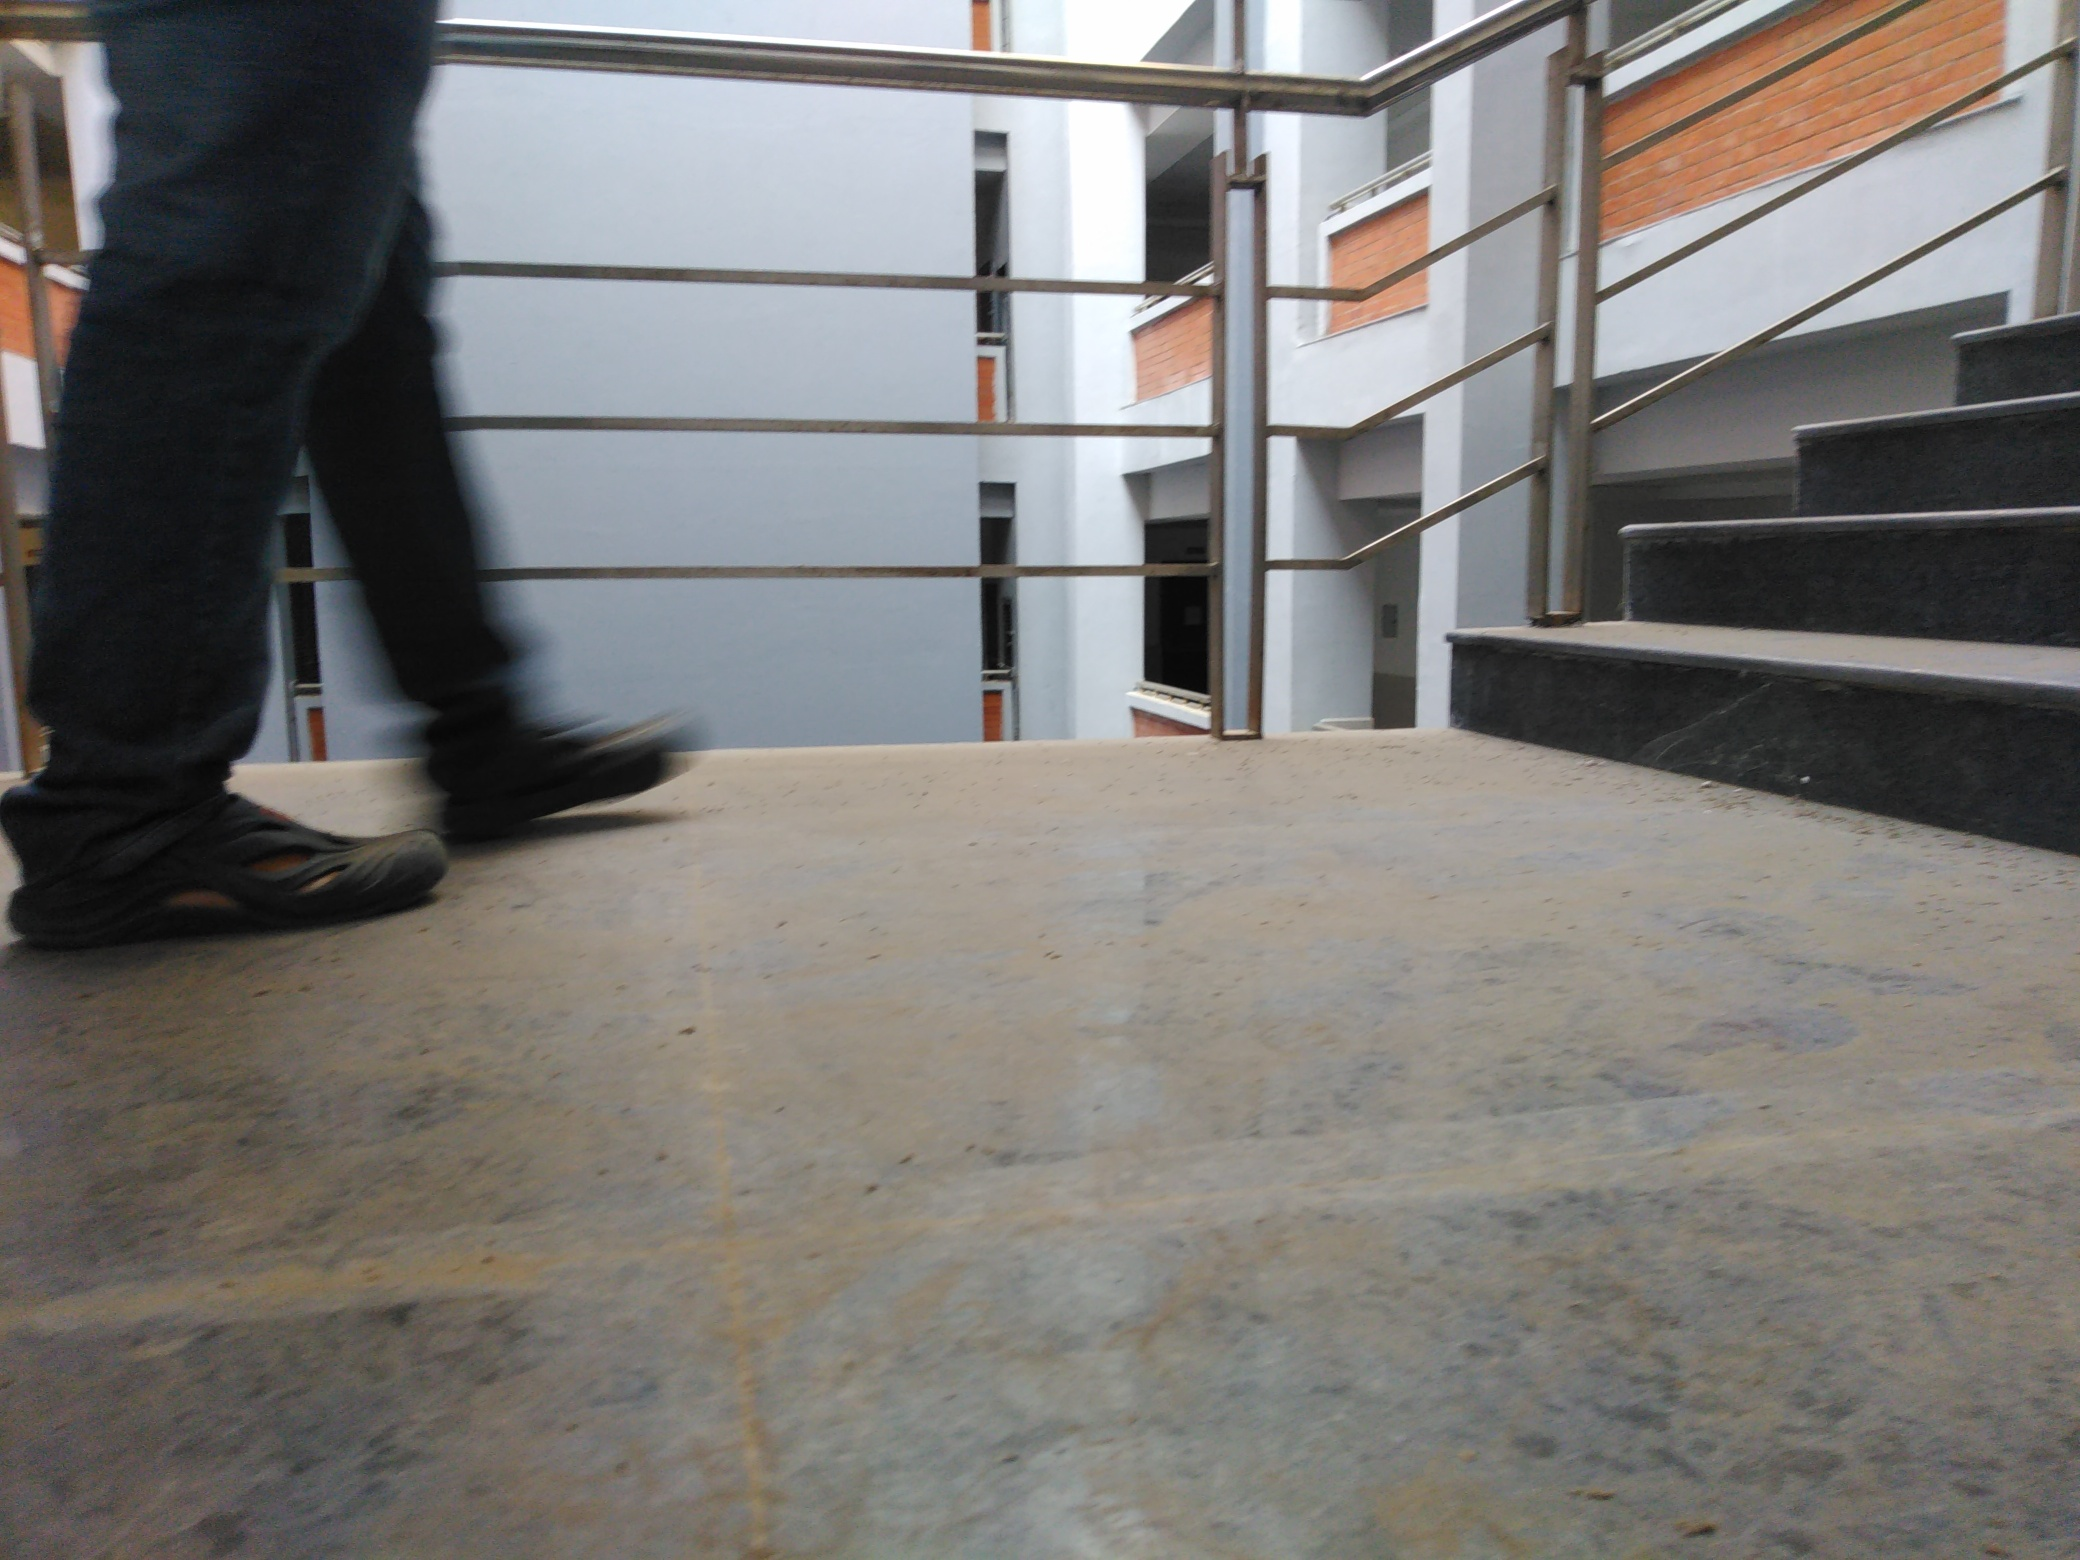stairs_up: (1431, 297, 2073, 824)
